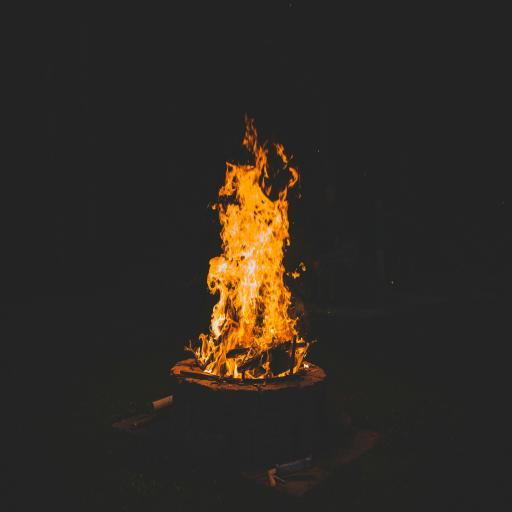campfire: (170, 106, 342, 440)
